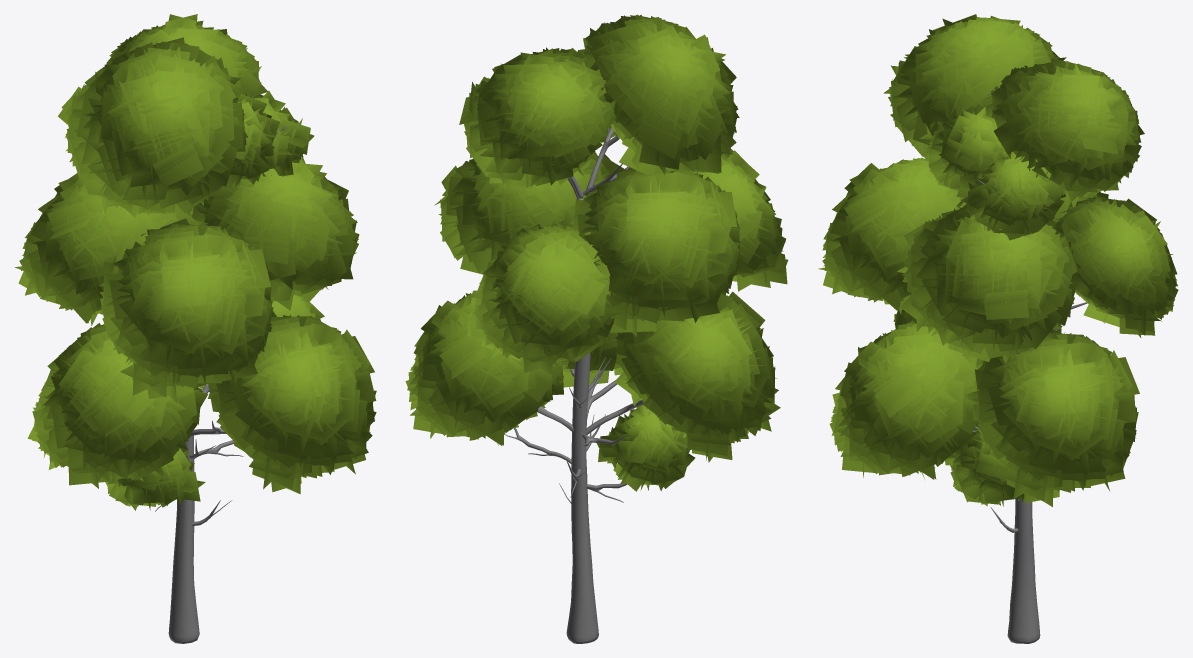
The model's file is SM_tree_maple_01.fbx.
3 renders of one model, left to right at view 1: azimuth 30°, elevation 25°; view 2: azimuth 150°, elevation 25°; view 3: azimuth 270°, elevation 25°, orthographic. The views are drawn at different scales.
Parts seen in each view (by area): view 1: Group63278; view 2: Group63278; view 3: Group63278.
Boxes of the visible parts, x1=… form: Group63278: x1=15, y1=14, x2=376, y2=643; Group63278: x1=405, y1=14, x2=788, y2=643; Group63278: x1=818, y1=14, x2=1178, y2=643.
Size of the model in its own units: 201 by 371 by 203.
